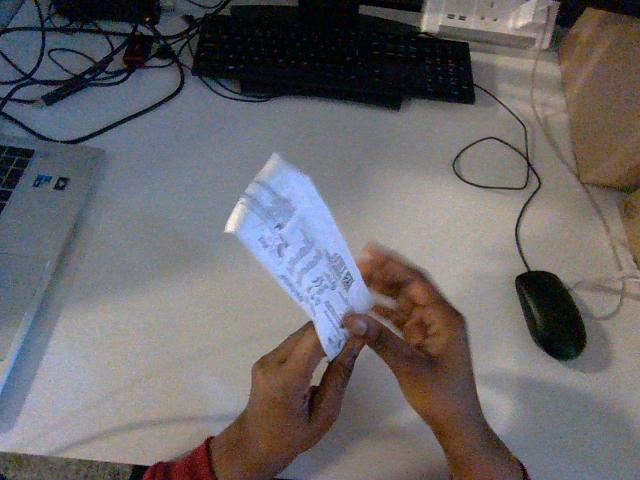syringe: (225, 153, 372, 358)
